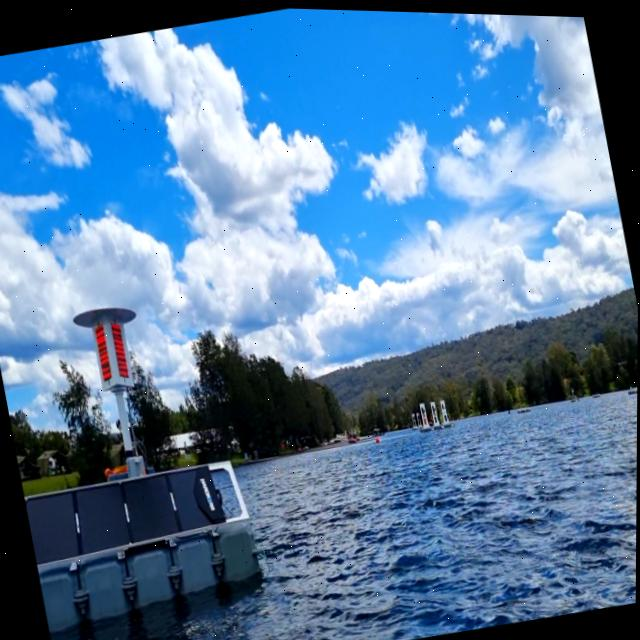led: (108, 316, 131, 382), (93, 322, 113, 379)
